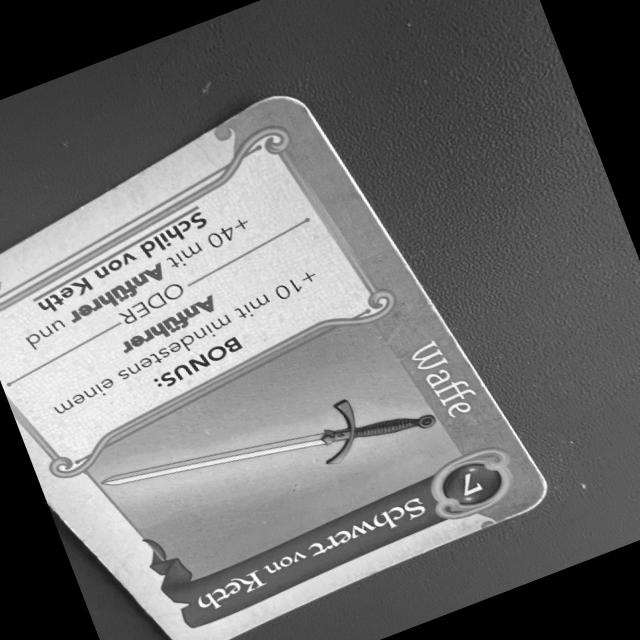Sword of Keth: (0, 81, 556, 640)
